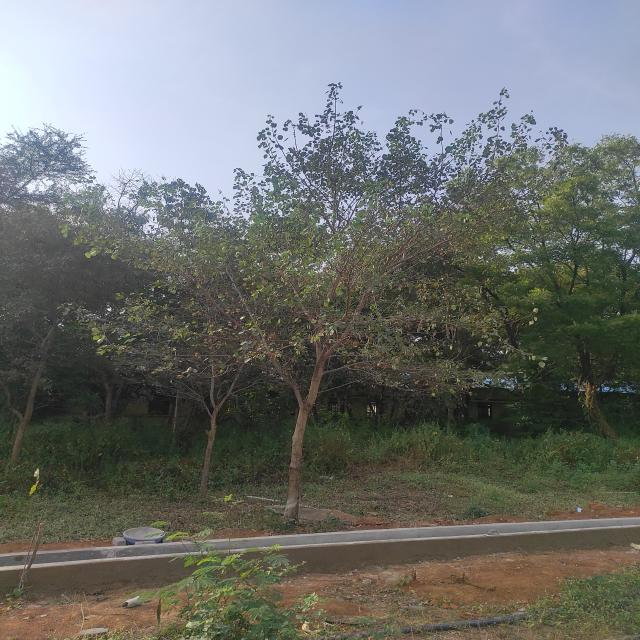Devakanchan tree: (197, 149, 464, 437)
Neem Tree: (490, 148, 627, 450)
